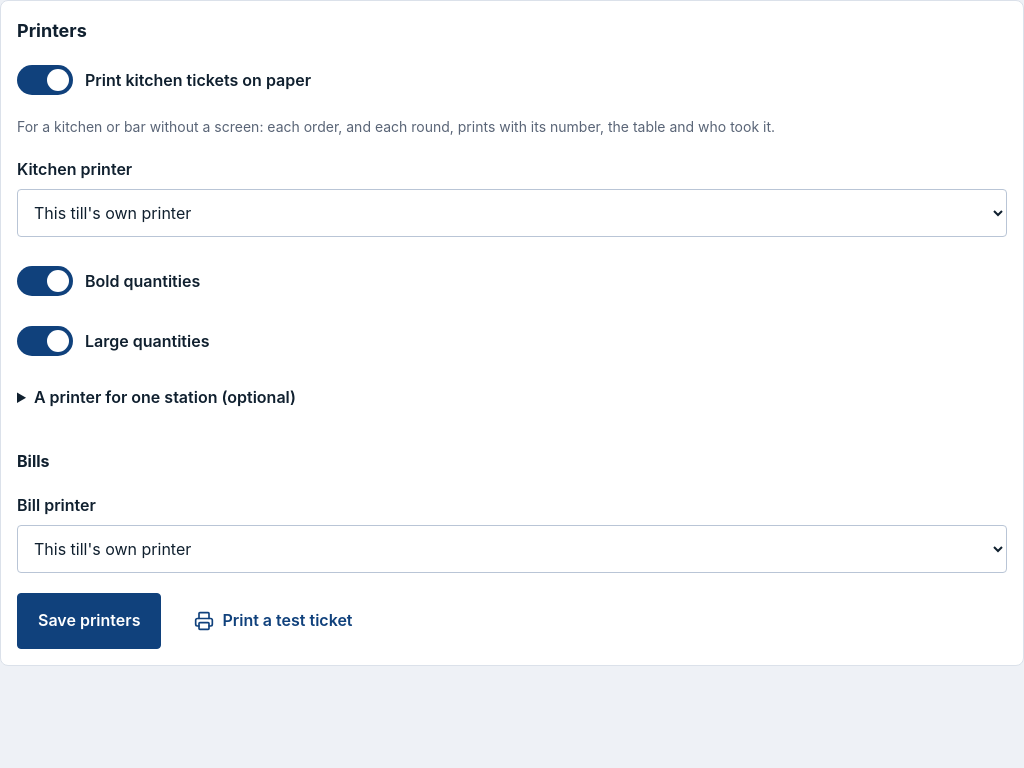
Test: Status → Printers (S8a) › sends kitchen tickets to a printer this computer knows, on 80 mm paper by default
Select "EPSON TM-T20" in the dropdown labelled "Kitchen printer" at (512, 213), box [17,189,1007,237]
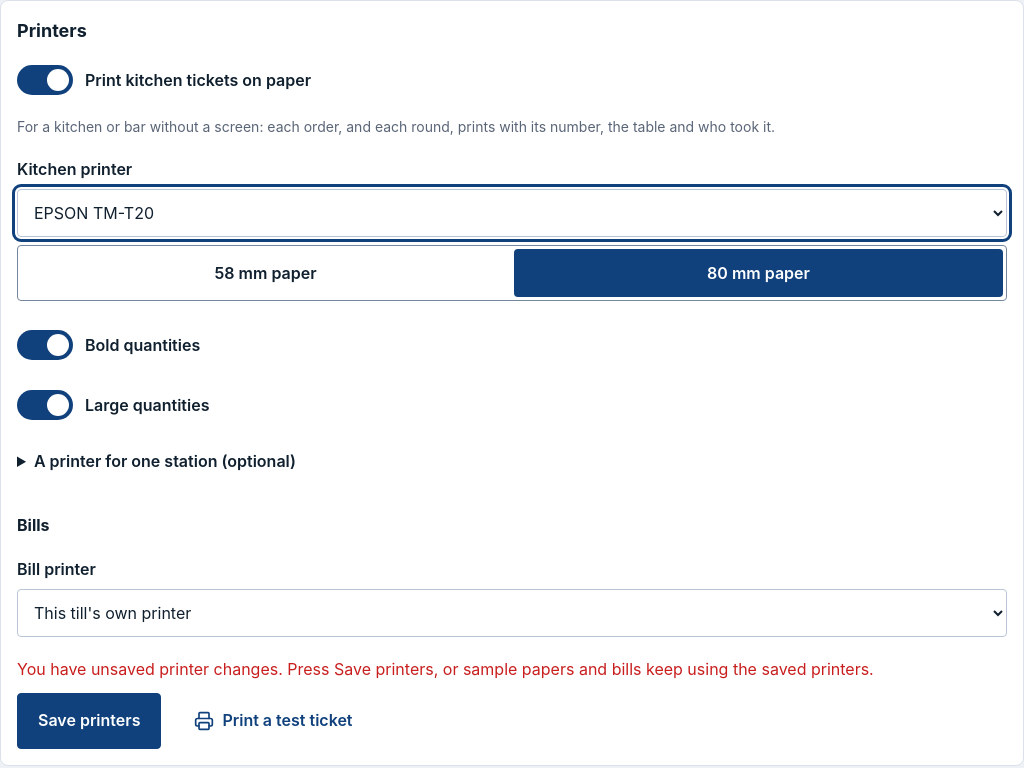
Click the button with test id "save-printers" at (89, 721), box [17,693,161,749]
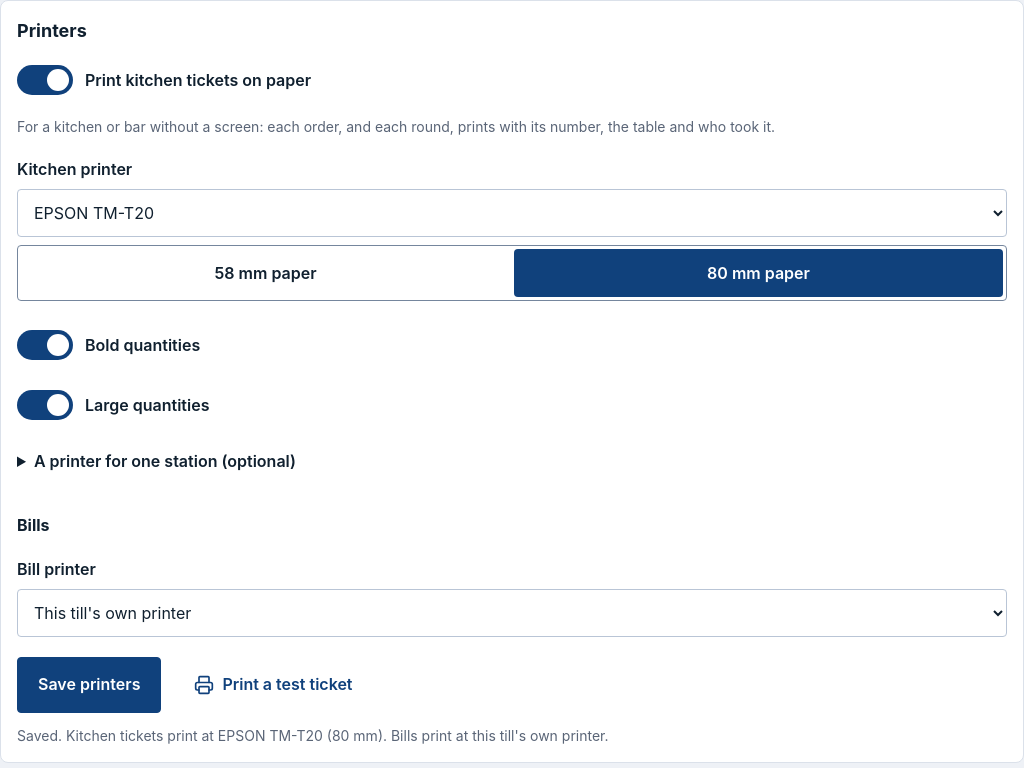
Result: the message with test id "printers-words" shows "Saved. Kitchen tickets print at EPSON TM-T20 (80 mm)." at [17,727,608,744]
